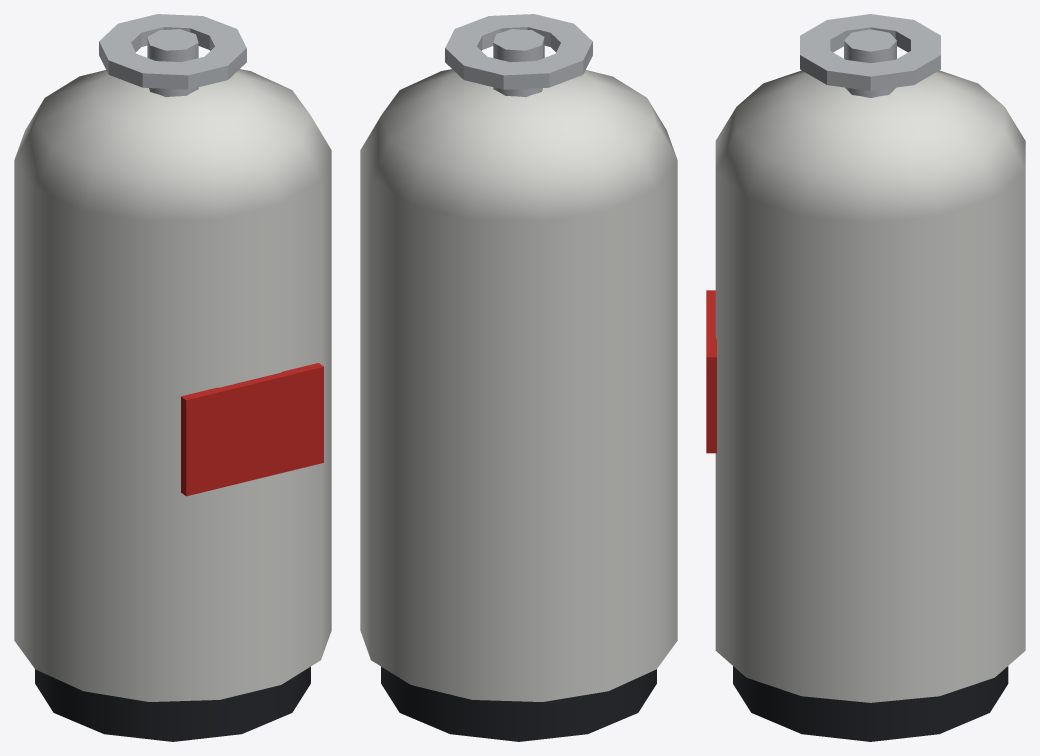
File: sb_propane_tank.glb
3 renders of one model, left to right at view 1: azimuth 30°, elevation 25°; view 2: azimuth 150°, elevation 25°; view 3: azimuth 270°, elevation 25°, orthographic.
Visible parts, largest first — view 1: sb_propane_tank; view 2: sb_propane_tank; view 3: sb_propane_tank.
Boxes of the visible parts, x1,y1,x2,y2 form: sb_propane_tank: (14, 14, 331, 741); sb_propane_tank: (360, 14, 677, 741); sb_propane_tank: (706, 14, 1025, 741).
Size of the model in its own units: 0.6 by 1.34 by 0.6025.
